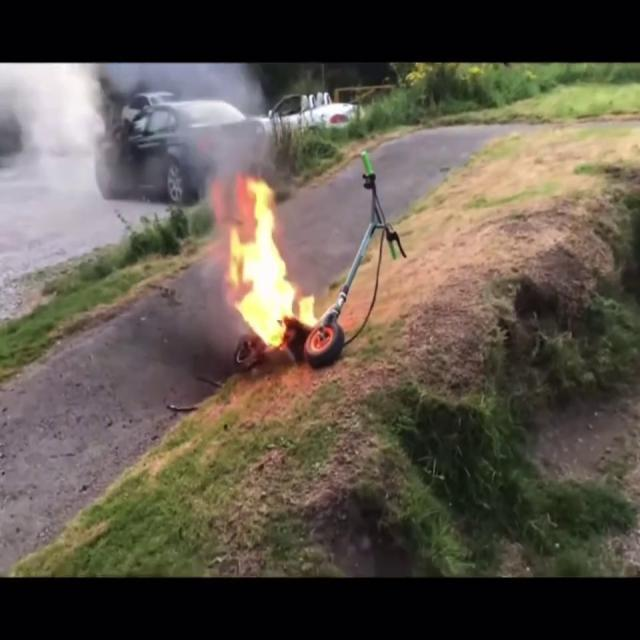Fire: (221, 170, 318, 354)
Smoke: (0, 64, 121, 241), (158, 62, 278, 198)
